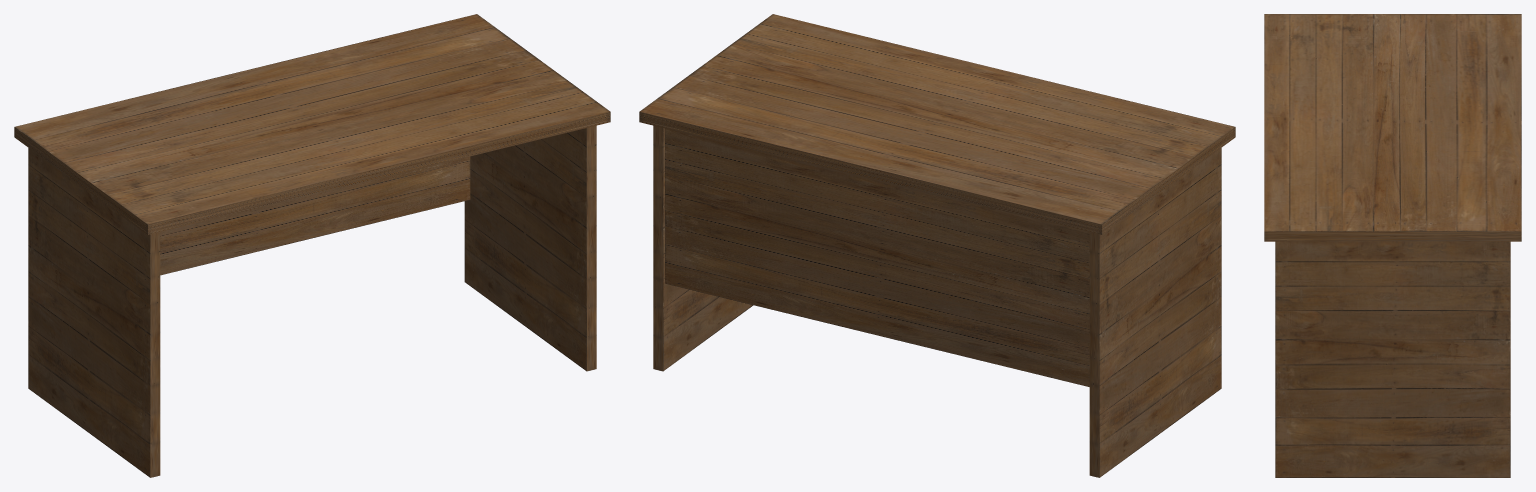
The model's file is mesa_escritorio_140.glb.
3 views of the same model, side by side, from view 1: azimuth 30°, elevation 25°; view 2: azimuth 150°, elevation 25°; view 3: azimuth 270°, elevation 25° (orthographic). The views are drawn at different scales.
Visible parts, largest first — view 1: mesa_escritorio_140; view 2: mesa_escritorio_140; view 3: mesa_escritorio_140.
Part boxes in pixels (bbox=[...]): mesa_escritorio_140: bbox=[14, 14, 610, 477]; mesa_escritorio_140: bbox=[639, 14, 1235, 477]; mesa_escritorio_140: bbox=[1264, 14, 1521, 477].
Bounding box in the file's own units: 1.4 × 0.75 × 0.7.
2 materials, 2 textured.
